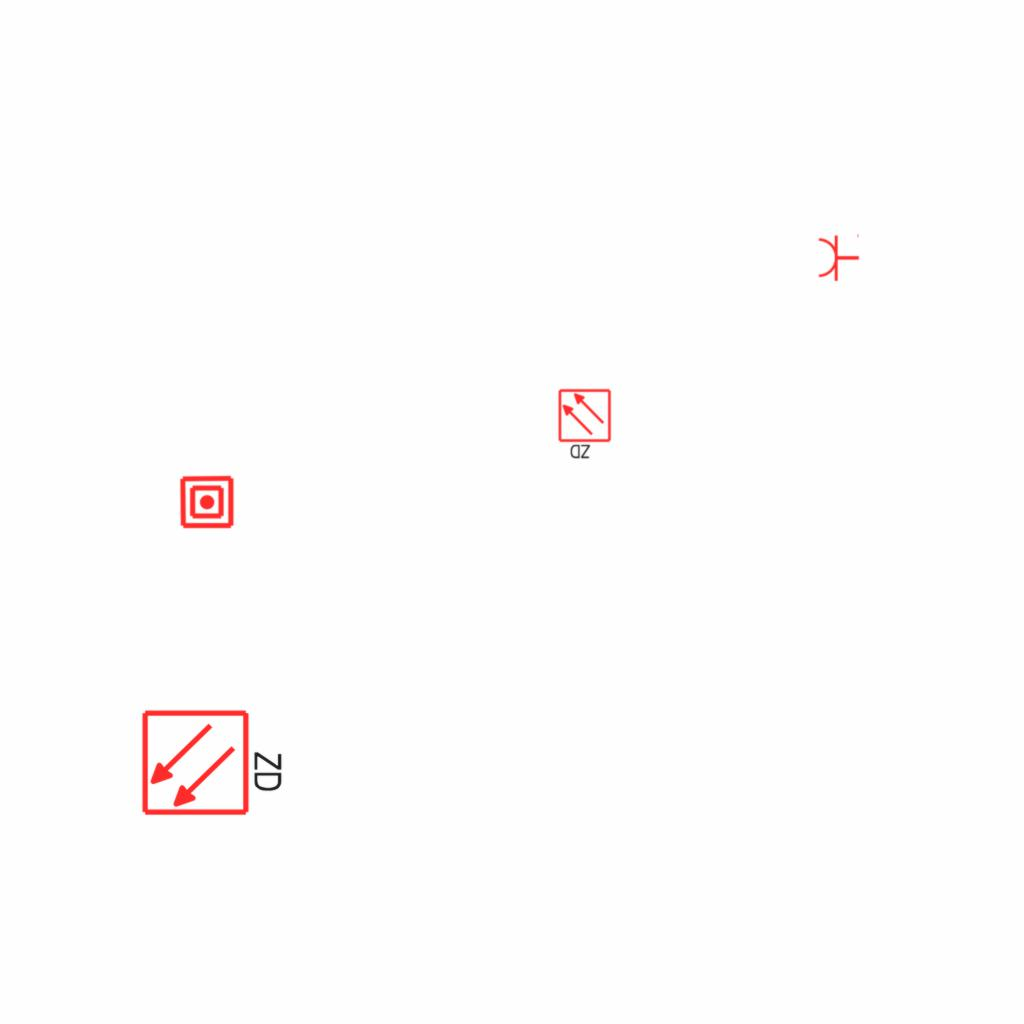NAM-Nichtautomatischer_Melder: (179, 474, 235, 530)
Schukosteckdose_einfach: (817, 232, 860, 282)
ZD_Melder_in_Zwischendecke_mit_Revisionsoeffnung_mind_40_x_40_cm: (140, 704, 289, 818), (557, 388, 614, 462)
